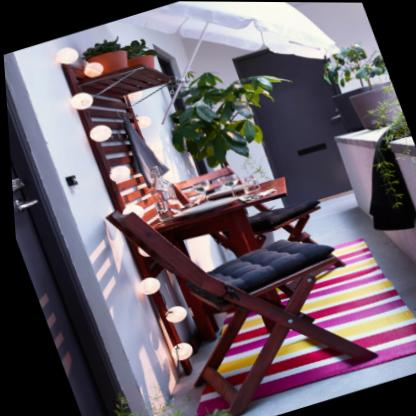Chair: (96, 150, 382, 416)
